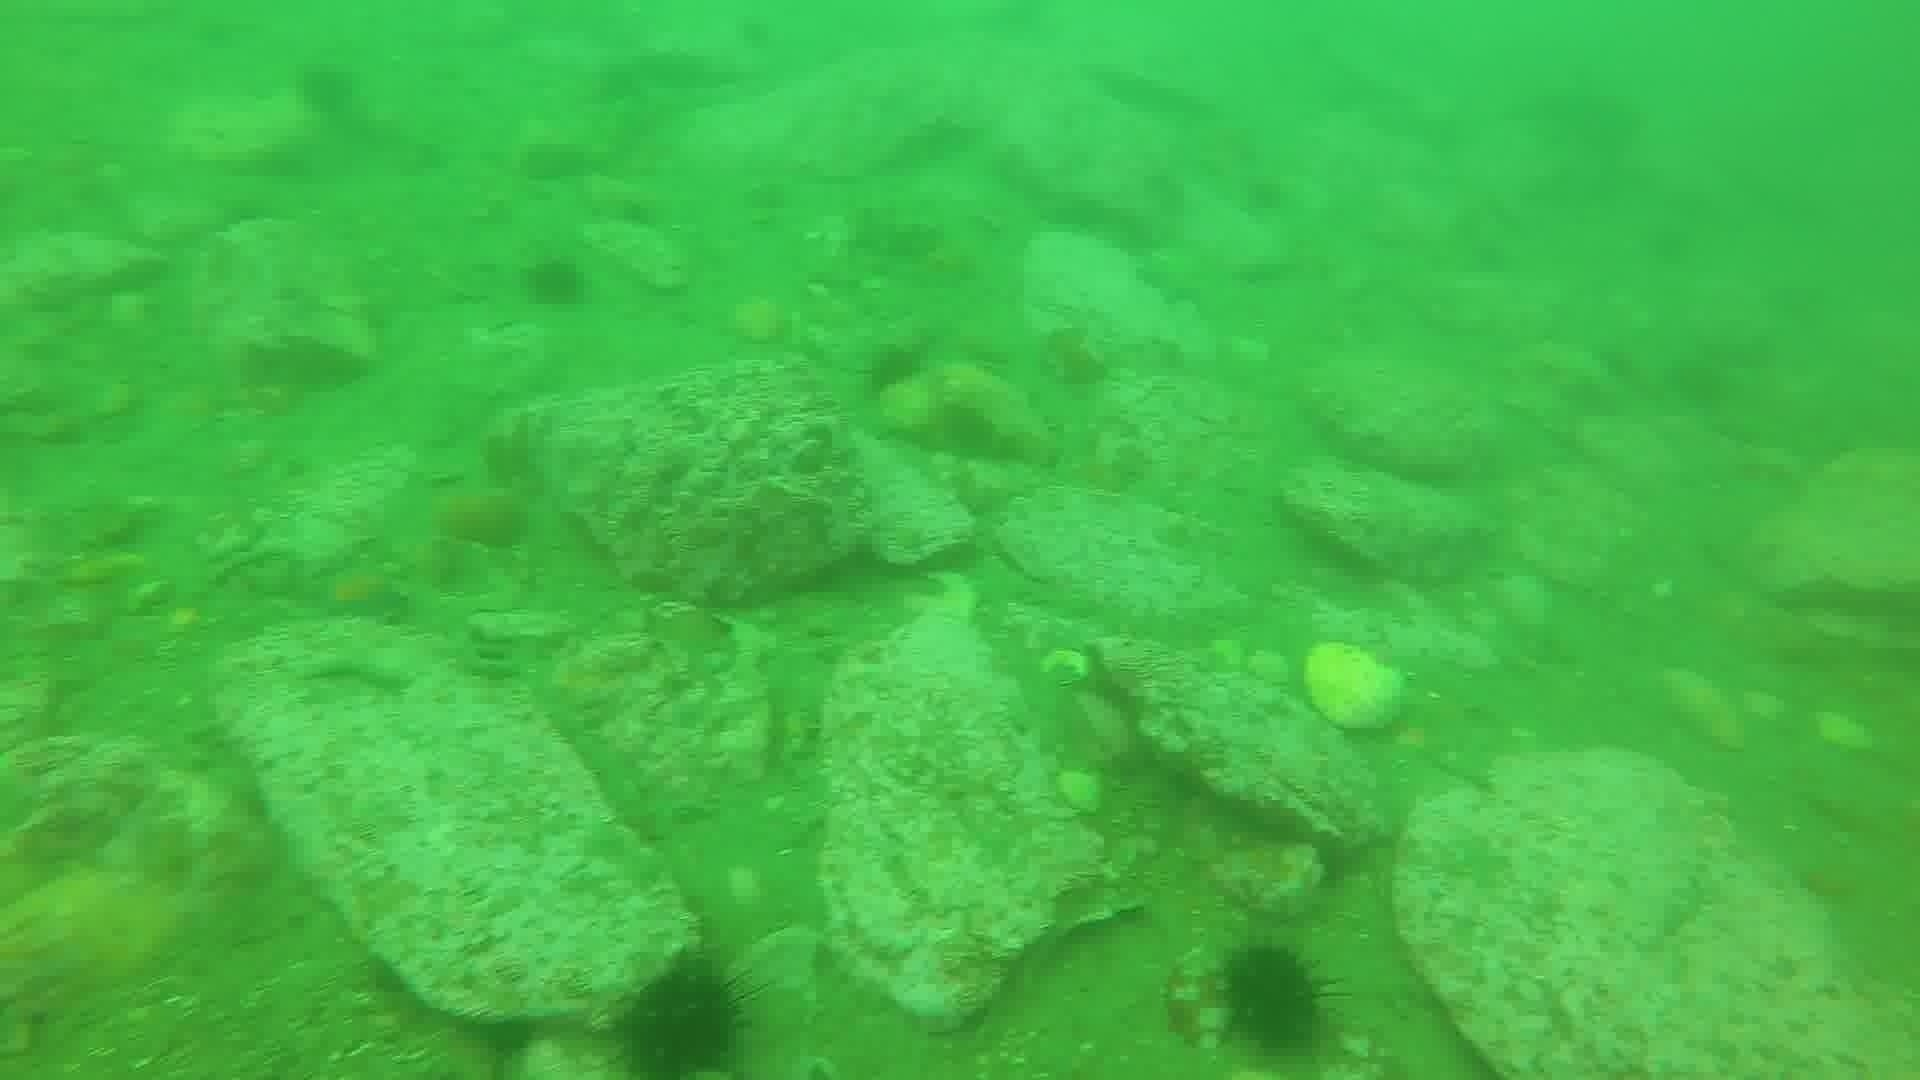echinus: (611, 952, 756, 1076), (1213, 938, 1337, 1060), (291, 57, 364, 123), (518, 251, 593, 313), (858, 338, 931, 401)
starfish: (306, 558, 413, 629), (1038, 320, 1116, 396)
